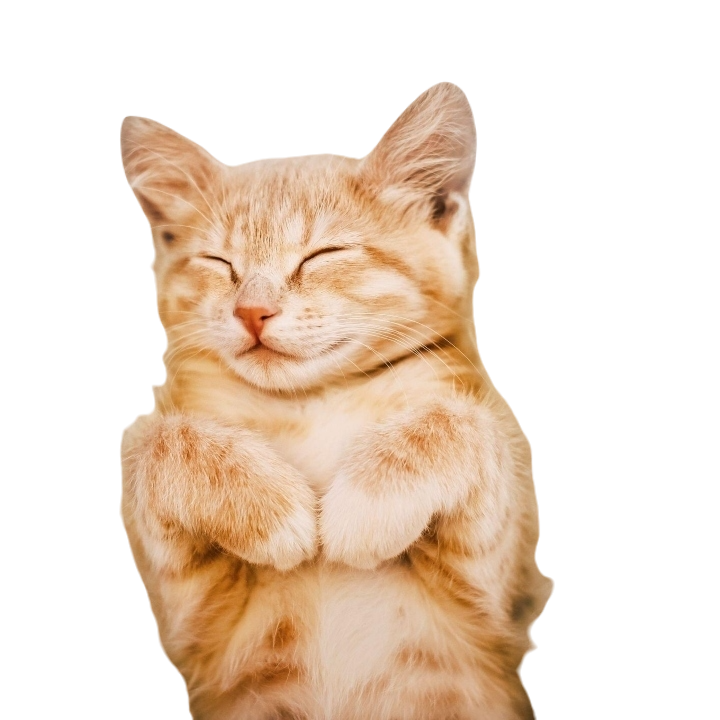Cat: (89, 83, 574, 719)
